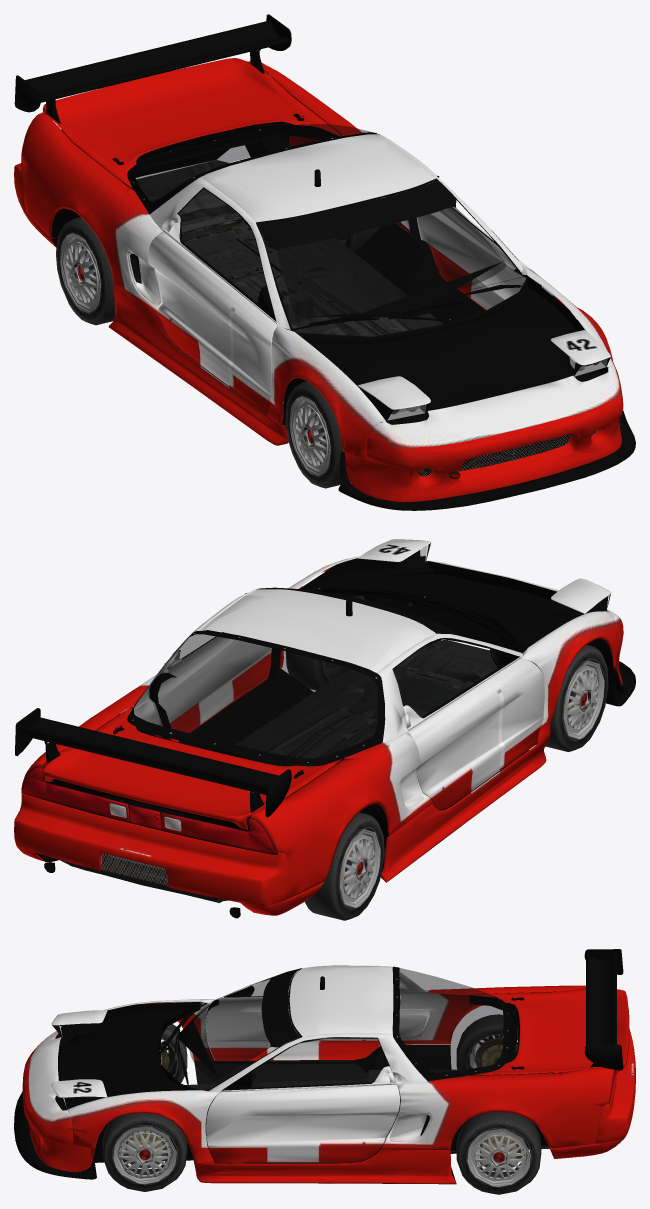
The model's file is nsx_lod.glb.
3 views of the same model, one above another, from view 1: azimuth 30°, elevation 25°; view 2: azimuth 150°, elevation 25°; view 3: azimuth 270°, elevation 25° (orthographic). The views are drawn at different scales.
Visible parts, largest first — view 1: body_body, body_frame, body_glass, body_undercarriage, body_solid, wheel_RR, wheel_RF, body_plastic2, body_matte_colors, body_misc, body_weatherstrip; view 2: body_body, body_glass, body_frame, body_undercarriage, body_solid, wheel_RR, body_detail_glass_red, wheel_RF, body_matte_colors, wheel_LF, body_weatherstrip, body_bottom (+3 smaller); view 3: body_body, body_frame, body_glass, wheel_LR, wheel_LF, body_solid, wheel_RR, body_plastic2, body_undercarriage, body_misc, wheel_RF, body_weatherstrip (+1 smaller).
Part boxes in pixels (x1=…): body_body: x1=14, y1=14, x2=623, y2=502; body_frame: x1=43, y1=70, x2=610, y2=476; body_glass: x1=133, y1=124, x2=607, y2=420; body_undercarriage: x1=136, y1=160, x2=442, y2=400; body_solid: x1=51, y1=113, x2=596, y2=476; wheel_RR: x1=56, y1=217, x2=130, y2=325; wheel_RF: x1=285, y1=381, x2=361, y2=488; body_plastic2: x1=130, y1=254, x2=635, y2=510; body_matte_colors: x1=136, y1=121, x2=597, y2=476; body_misc: x1=132, y1=124, x2=503, y2=317; body_weatherstrip: x1=295, y1=284, x2=521, y2=329; body_body: x1=14, y1=539, x2=623, y2=915; body_glass: x1=133, y1=590, x2=505, y2=758; body_frame: x1=23, y1=543, x2=613, y2=901; body_undercarriage: x1=79, y1=639, x2=497, y2=902; body_solid: x1=44, y1=588, x2=615, y2=918; wheel_RR: x1=305, y1=812, x2=384, y2=920; body_detail_glass_red: x1=21, y1=765, x2=278, y2=854; wheel_RF: x1=545, y1=645, x2=608, y2=751; body_matte_colors: x1=101, y1=726, x2=294, y2=886; wheel_LF: x1=285, y1=596, x2=364, y2=690; body_weatherstrip: x1=317, y1=586, x2=520, y2=649; body_bottom: x1=60, y1=675, x2=615, y2=901; body_body: x1=22, y1=949, x2=635, y2=1184; body_frame: x1=52, y1=986, x2=615, y2=1163; body_glass: x1=188, y1=968, x2=503, y2=1080; wheel_LR: x1=456, y1=1112, x2=541, y2=1194; wheel_LF: x1=102, y1=1113, x2=187, y2=1191; body_solid: x1=95, y1=966, x2=547, y2=1177; wheel_RR: x1=456, y1=1014, x2=517, y2=1069; body_plastic2: x1=14, y1=1091, x2=429, y2=1179; body_undercarriage: x1=125, y1=1069, x2=549, y2=1161; body_misc: x1=121, y1=967, x2=507, y2=1165; wheel_RF: x1=161, y1=1024, x2=187, y2=1083; body_weatherstrip: x1=158, y1=1002, x2=206, y2=1086.
Size of the model in its own units: 1.83 by 1.26 by 4.4.
Materials: 22 (20 with a texture image).
